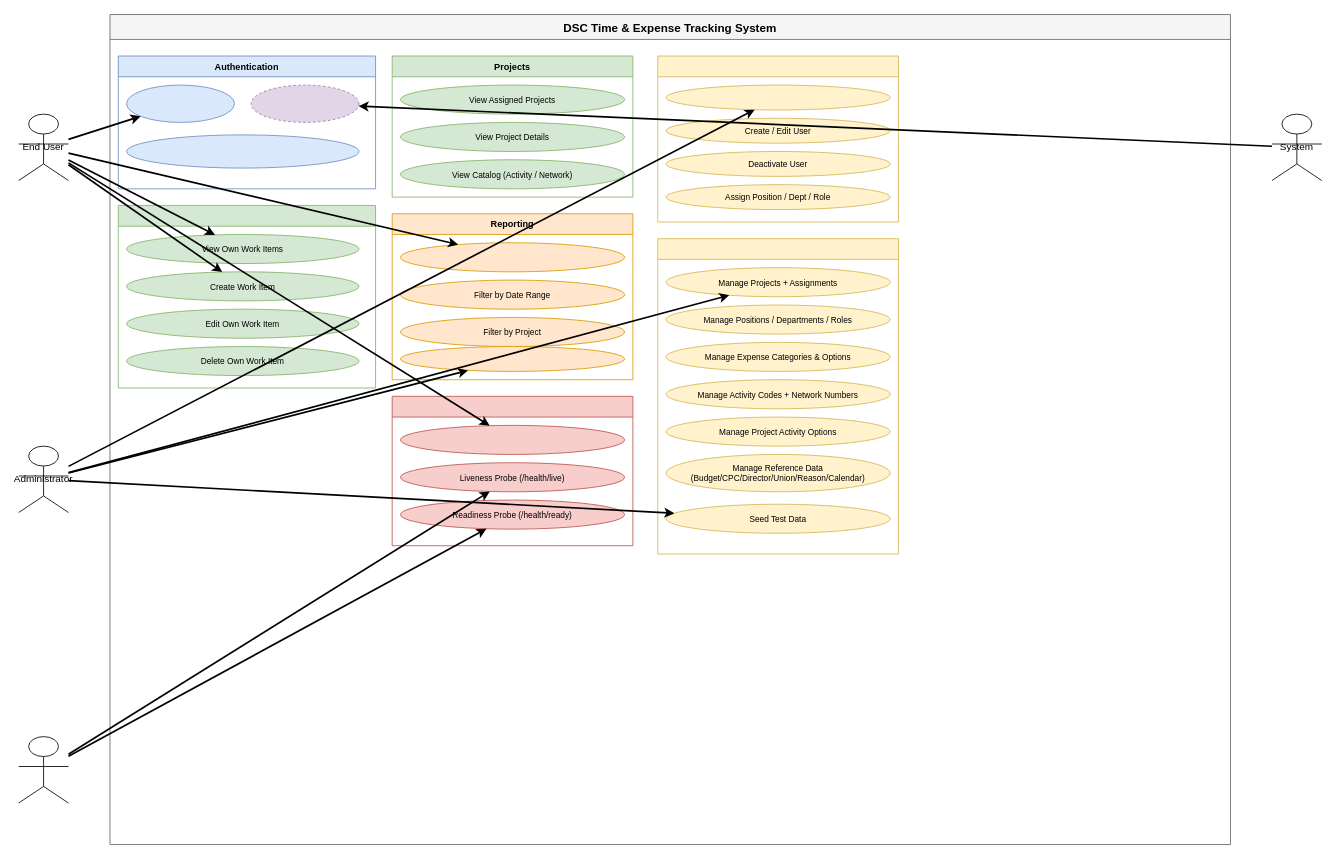
The diagram is 1336 pixels wide and 859 high, and some of its shapes have lost their labels. Here are the shapes that lost their labels. From the top down, the box of each, then its label:
(126, 84, 234, 122): Login (Local Account)
(250, 84, 359, 122): Login (OIDC — Future)
(665, 84, 890, 110): List Users
(126, 134, 359, 168): Logout / View Session
(657, 55, 898, 222): User Administration
(400, 242, 625, 272): View Report Dashboard
(117, 205, 376, 388): Time Tracking
(400, 346, 625, 371): View All Users Report (Admin/Mgr)
(657, 238, 898, 554): Catalog Administration
(400, 425, 625, 454): View Health Dashboard (/health)
(391, 395, 633, 546): System Health
(18, 736, 68, 803): OpenShift Probe
